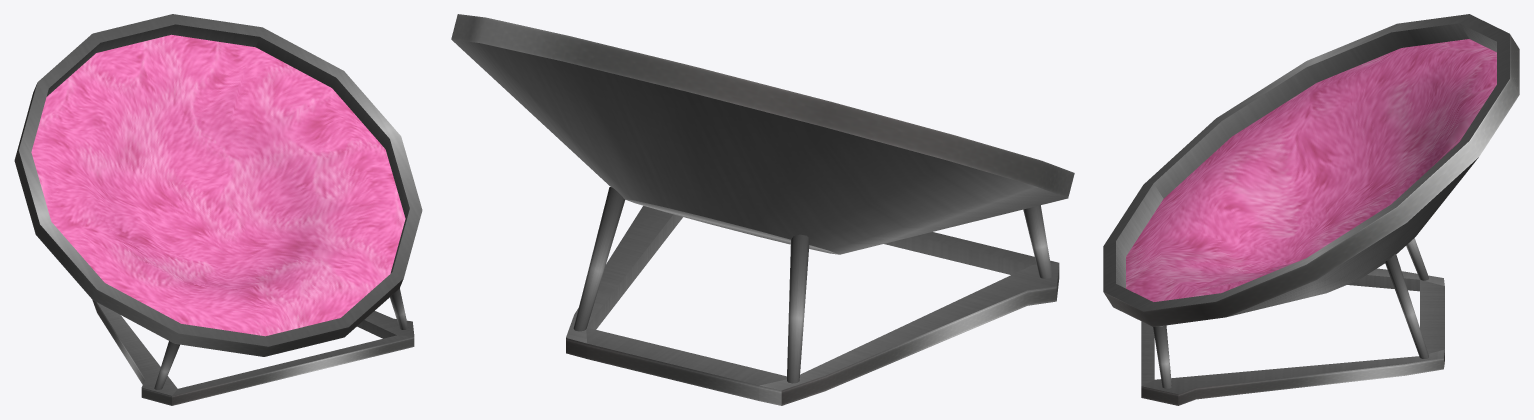
File: Saucer_Chair_04.FBX
The picture shows the model from 3 angles, left to right: view 1: azimuth 30°, elevation 25°; view 2: azimuth 150°, elevation 25°; view 3: azimuth 270°, elevation 25°; orthographic projection. The views are drawn at different scales.
Parts seen in each view (by area): view 1: Saucer Chair; view 2: Saucer Chair; view 3: Saucer Chair.
Boxes of the visible parts, left/top/right/bottom form: Saucer Chair: left=14, top=14, right=422, bottom=405; Saucer Chair: left=451, top=14, right=1074, bottom=405; Saucer Chair: left=1103, top=14, right=1519, bottom=405.
Bounding box in the file's own units: 200 × 125 × 173.
